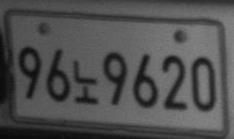0: (190, 56, 216, 112)
2: (161, 54, 187, 109)
6: (131, 53, 158, 108), (46, 48, 70, 101)
9: (102, 51, 127, 105), (18, 45, 41, 98)
노: (72, 59, 99, 104)
